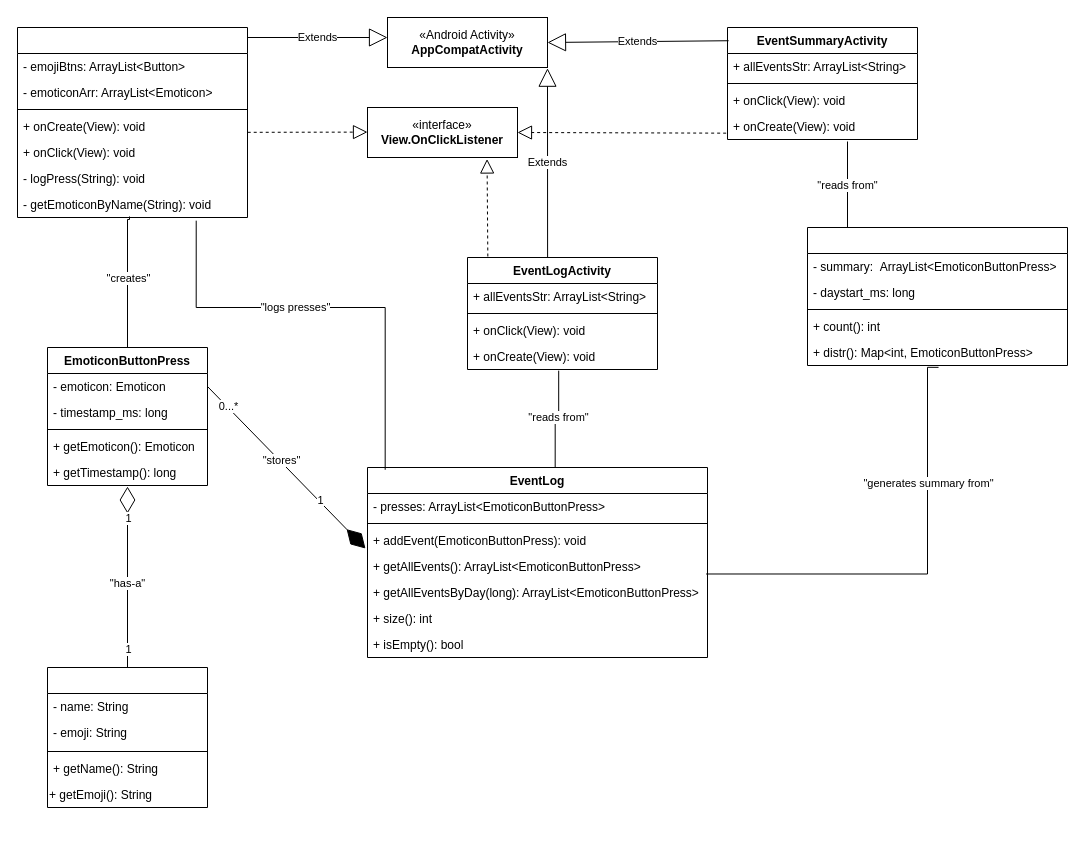
The diagram is 1085 pixels wide and 864 high, and some of its shapes have lost their labels. The shapes that lost their labels are listed below. From the top down, each one's box as (x1, y1, x2, y2) in pixels, then its label:
(16, 26, 248, 218): MainActivity
(806, 226, 1068, 366): EmoticonDailySummary
(46, 666, 208, 808): Emoticon
